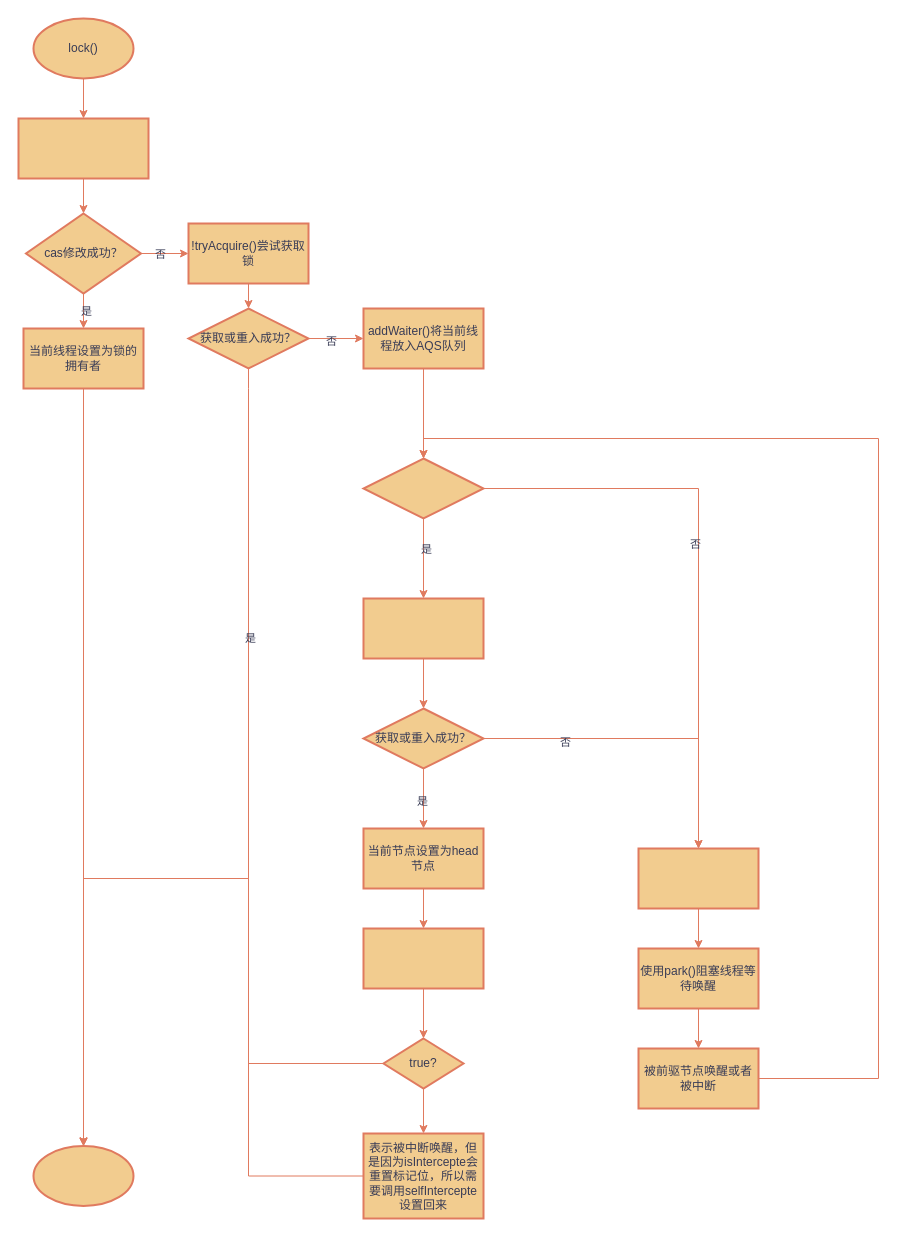
Image size: 904x1236. Some labels were removed from this diagram. The box of each missing label's shape, as (x1, y1, x2, y2) in pixels:
cas尝试修改state: (17, 117, 149, 179)
tryAcquire()尝试获取锁: (362, 597, 484, 659)
当前线程的前驱节点是head节点？: (362, 457, 484, 519)
结束: (32, 1144, 134, 1206)
设置当前节点的前驱节点waitStatus=-1，表示前驱节点有义务通知后面的节点。: (637, 847, 759, 909)
返回中断标记: (362, 927, 484, 989)
